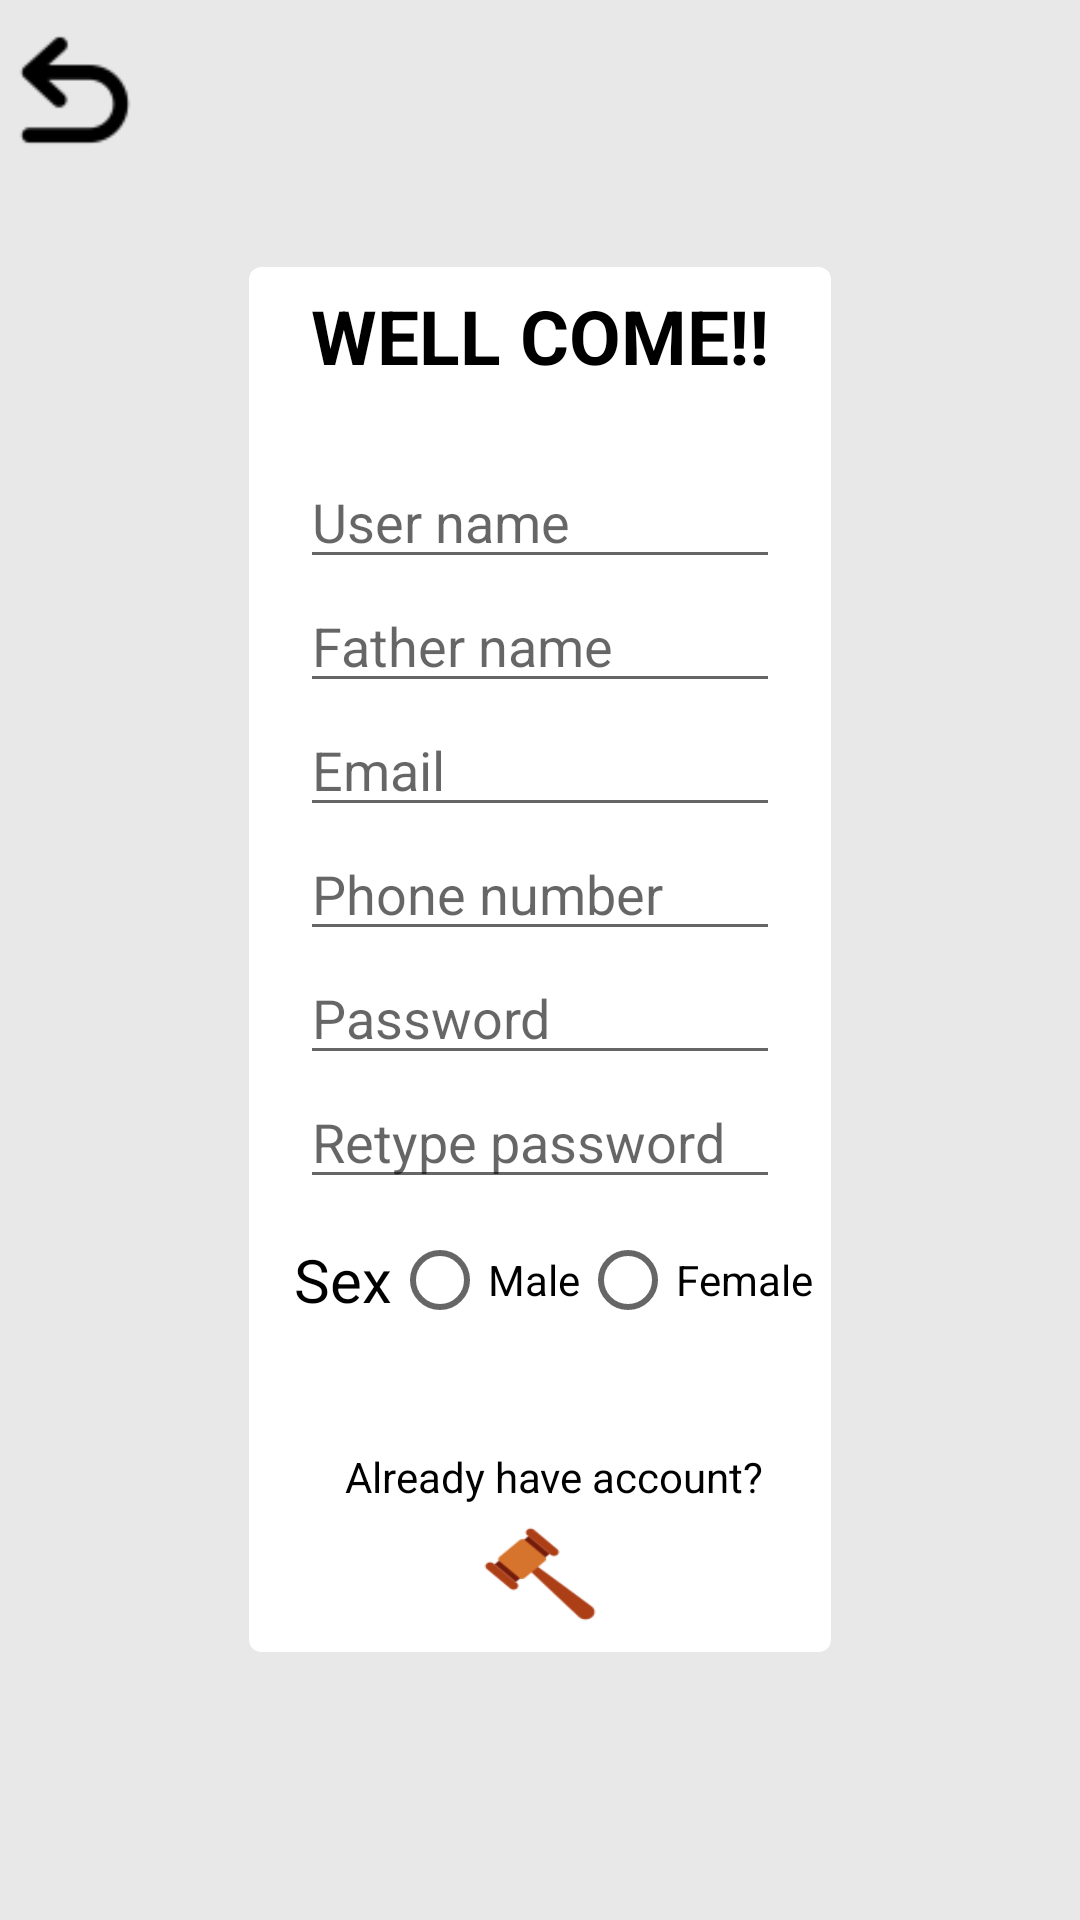

Icons on this 1080x1920 Android screen, each with the point to tap as [x,y]:
back: [75,90]
